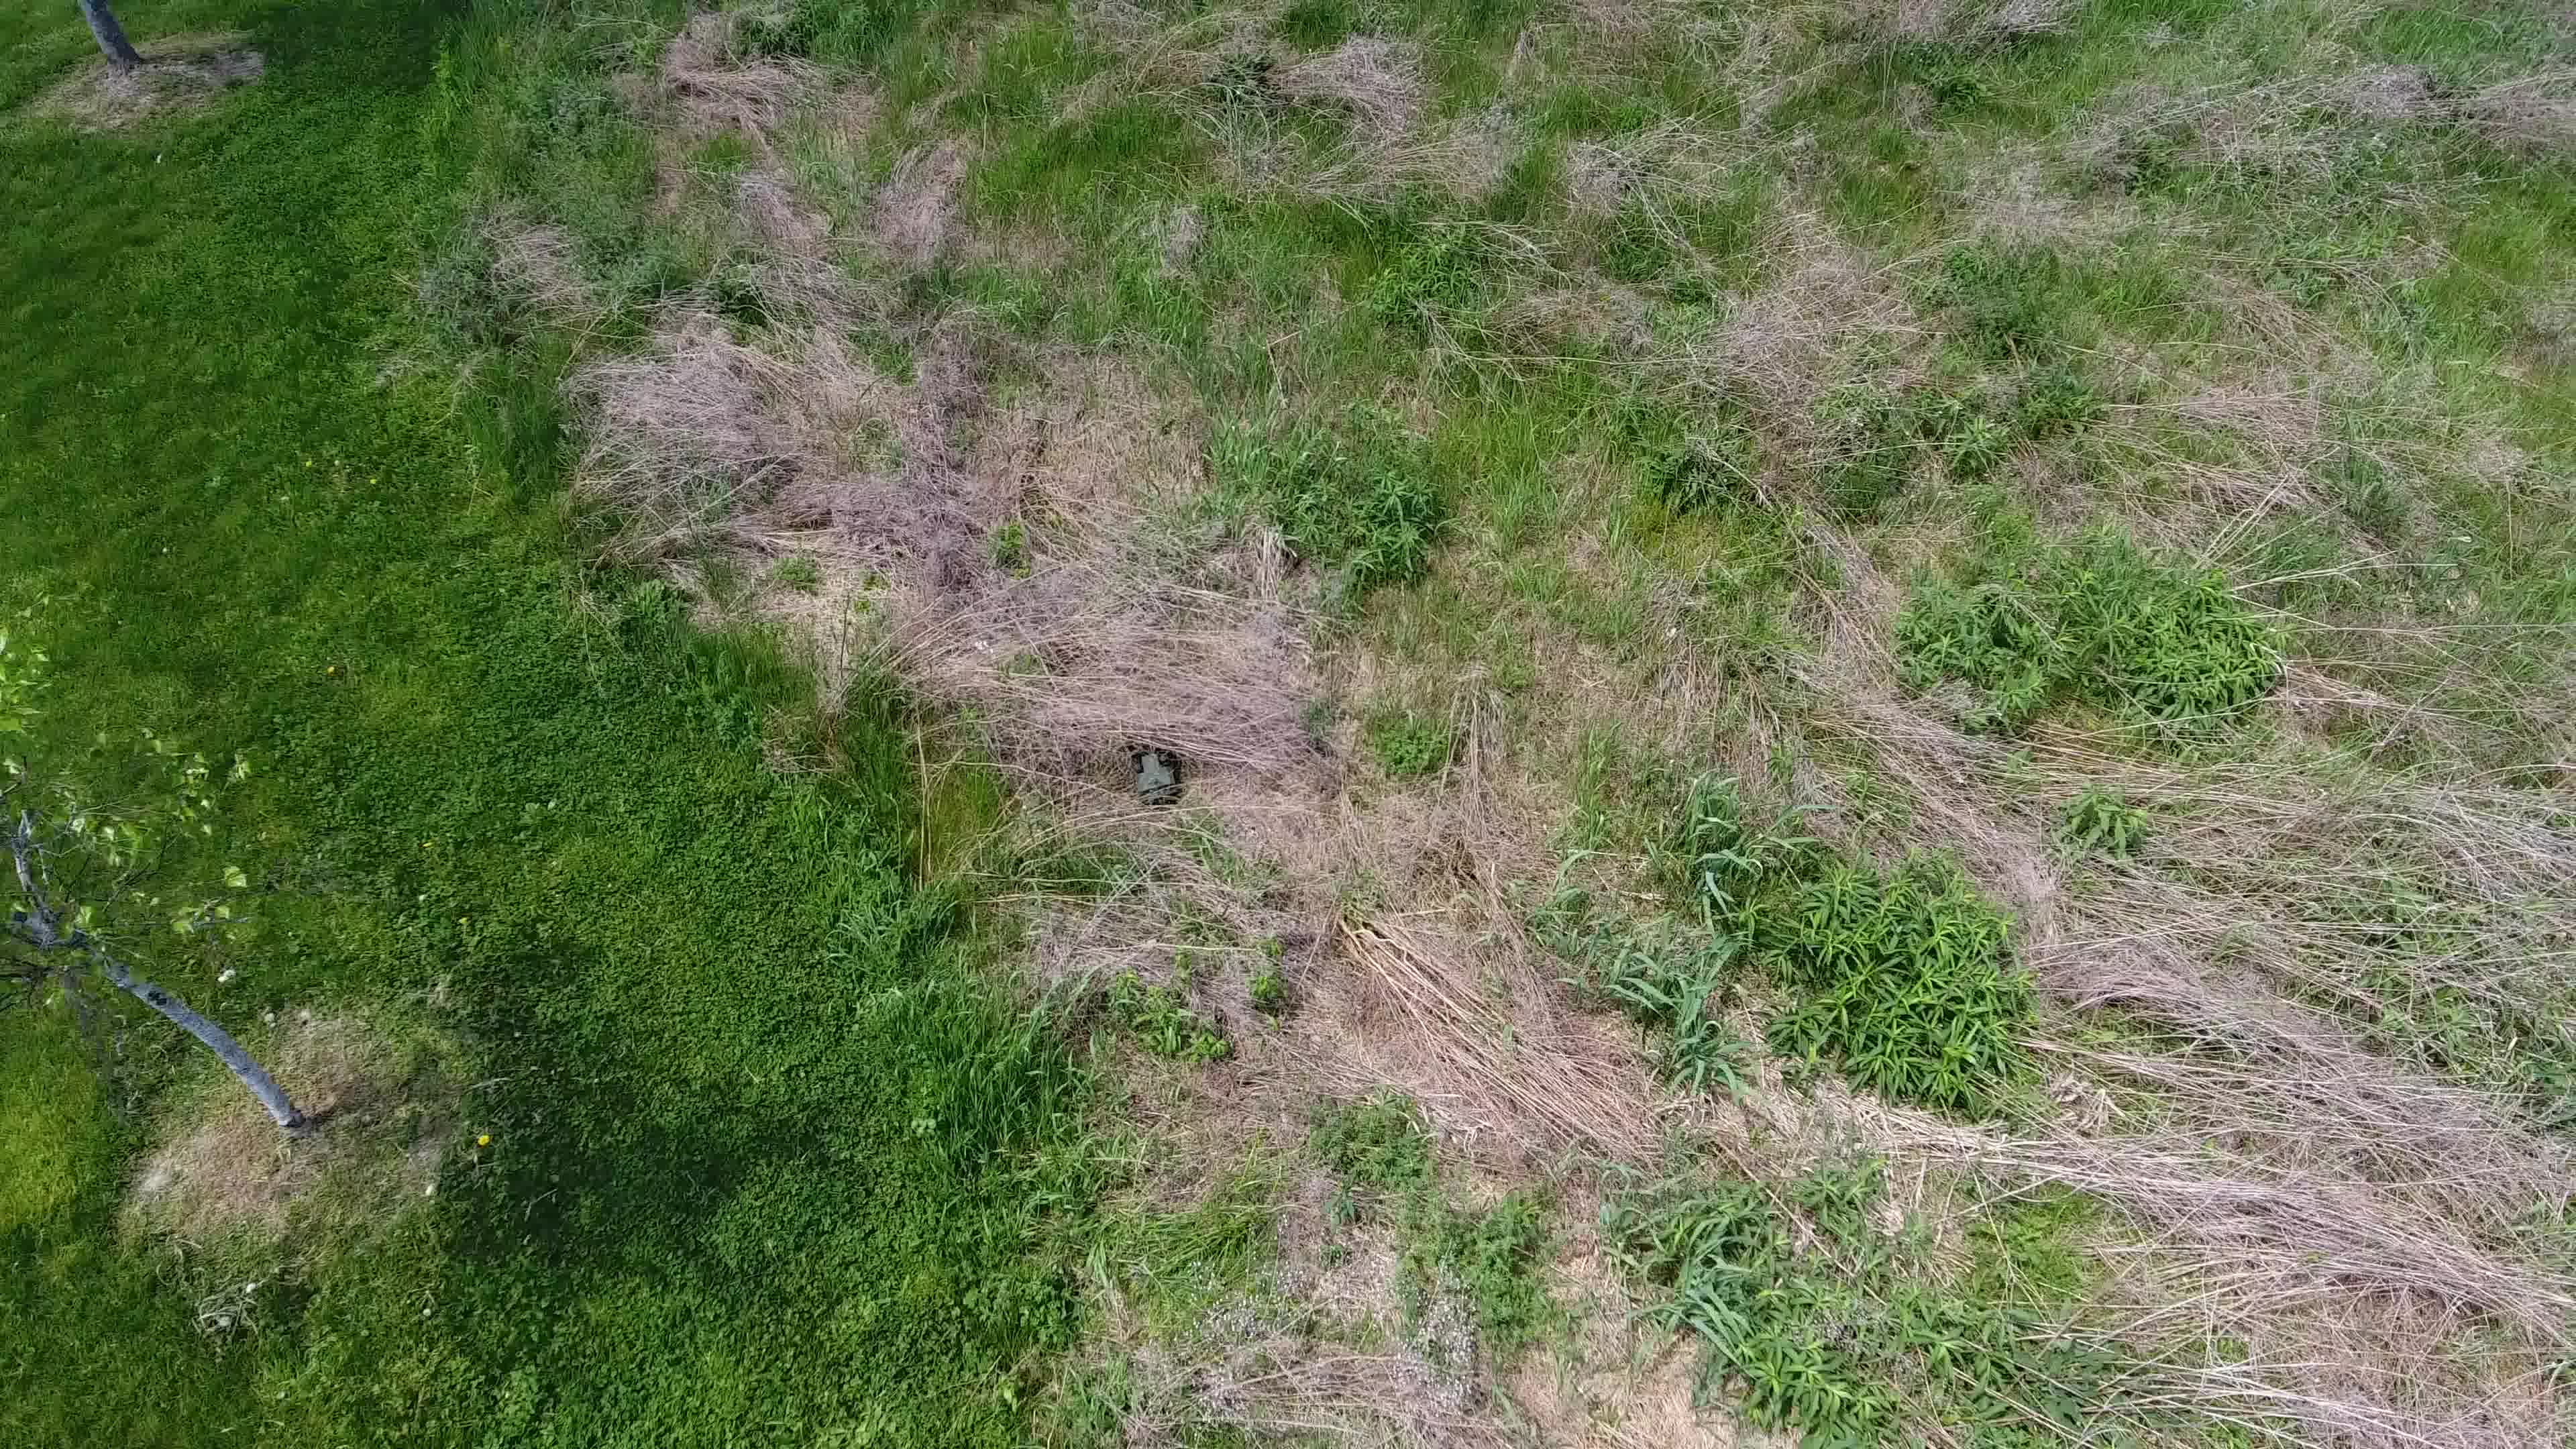transporter9: (1131, 748, 1180, 803)
